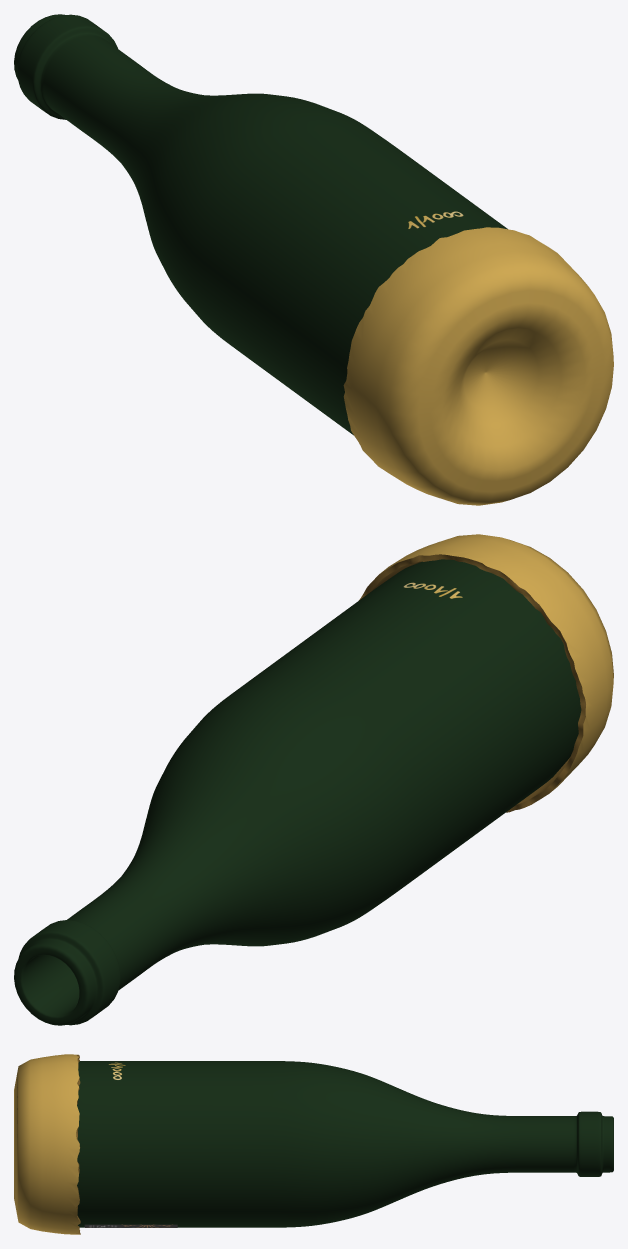
File: KatkootxCH-test1.glb
The picture shows the model from 3 angles, top to bottom: view 1: azimuth 30°, elevation 25°; view 2: azimuth 150°, elevation 25°; view 3: azimuth 270°, elevation 25°; orthographic projection. The views are drawn at different scales.
Parts seen in each view (by area): view 1: imagetostl_mesh9, Base; view 2: imagetostl_mesh9, Base; view 3: imagetostl_mesh9, Base, Plane.001.
Boxes of the visible parts, x1,y1,x2,y2 form: imagetostl_mesh9: (14, 14, 507, 435); Base: (343, 227, 613, 505); imagetostl_mesh9: (14, 559, 581, 1025); Base: (359, 534, 613, 812); imagetostl_mesh9: (77, 1061, 613, 1227); Base: (14, 1054, 80, 1234); Plane.001: (84, 1224, 177, 1227).
Bounding box in the file's own units: 0.7227 × 0.7227 × 2.4.
Materials: 5 (2 with a texture image).
